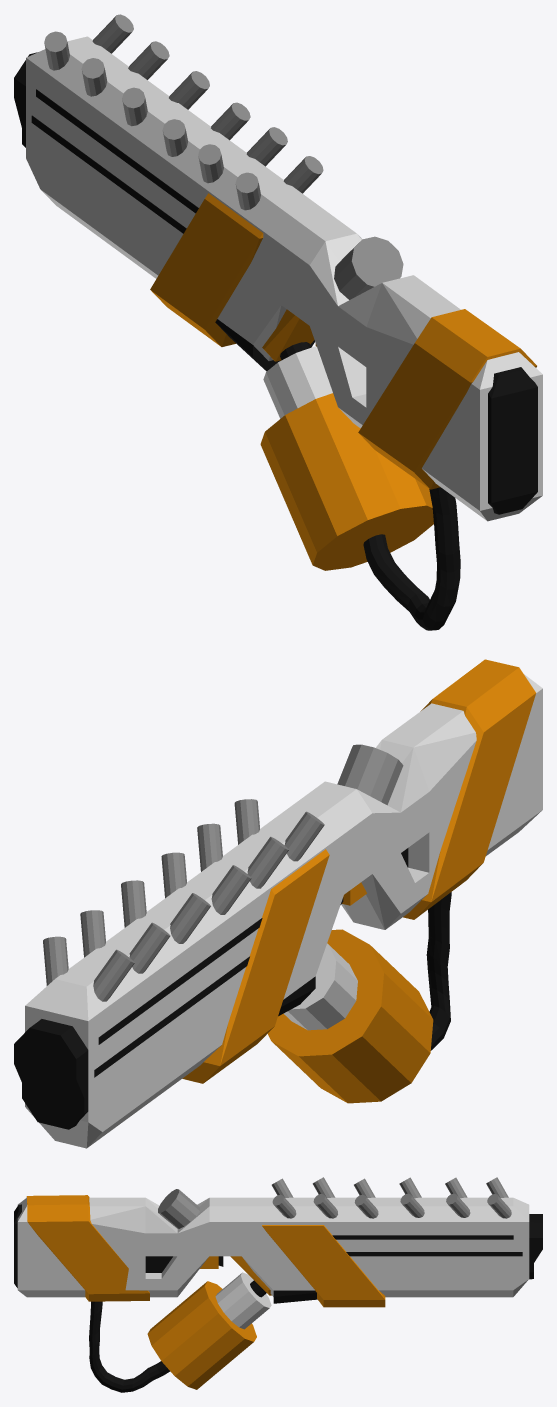
File: rifle.gltf
3 views of the same model, one above another, from view 1: azimuth 30°, elevation 25°; view 2: azimuth 150°, elevation 25°; view 3: azimuth 270°, elevation 25° (orthographic). The views are drawn at different scales.
Parts seen in each view (by area): view 1: node_MeshObject645397184-PolyPaper13; view 2: node_MeshObject645397184-PolyPaper13; view 3: node_MeshObject645397184-PolyPaper13.
Boxes of the visible parts, x1,y1,x2,y2 form: node_MeshObject645397184-PolyPaper13: (14, 14, 542, 630); node_MeshObject645397184-PolyPaper13: (14, 659, 542, 1148); node_MeshObject645397184-PolyPaper13: (14, 1177, 542, 1392).
Size of the model in its own units: 0.1721 by 0.4927 by 1.16.
